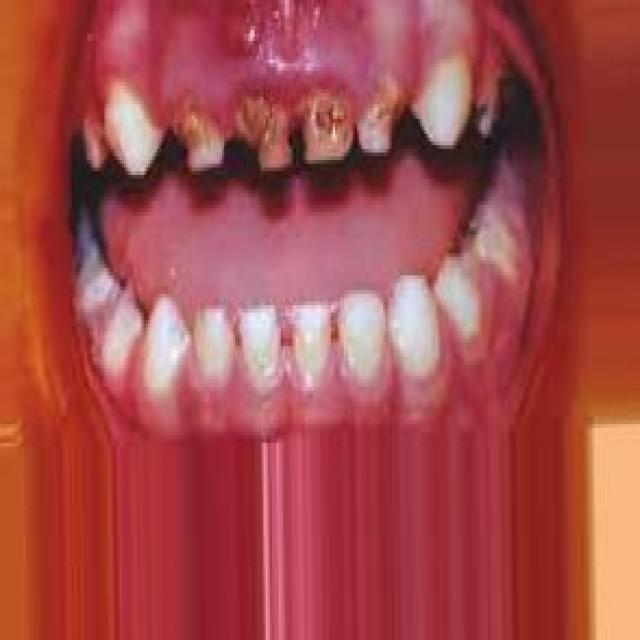caries: (241, 89, 300, 184), (167, 94, 232, 178), (302, 76, 356, 164), (360, 72, 403, 162), (473, 67, 507, 140)
